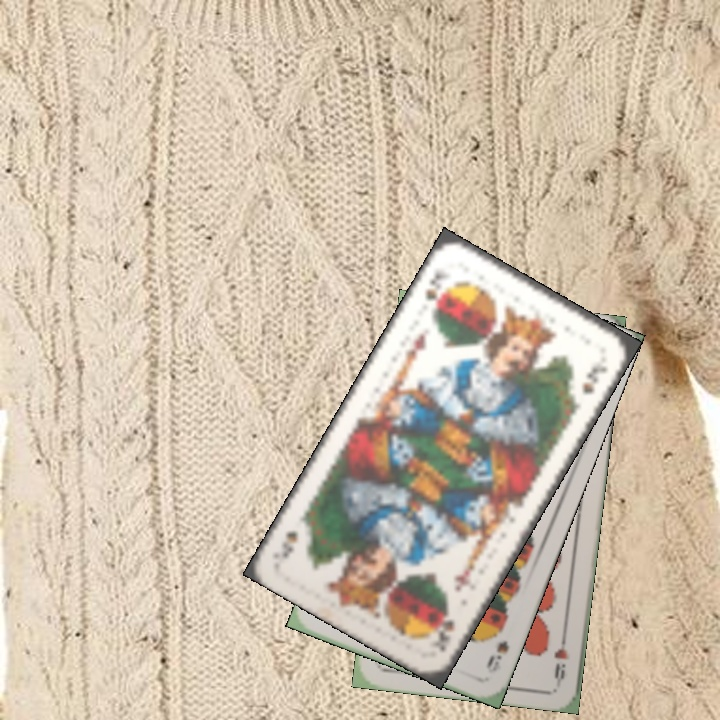H9: (549, 626, 571, 685)
S9: (482, 619, 512, 676)
SK: (428, 605, 458, 656), (420, 268, 451, 317)
